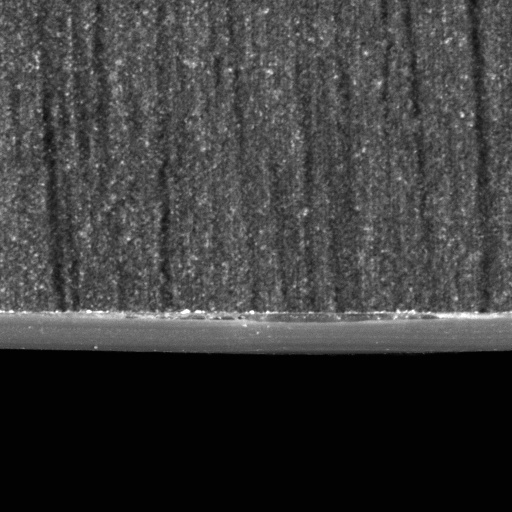kaijiao: (127, 305, 452, 364)
